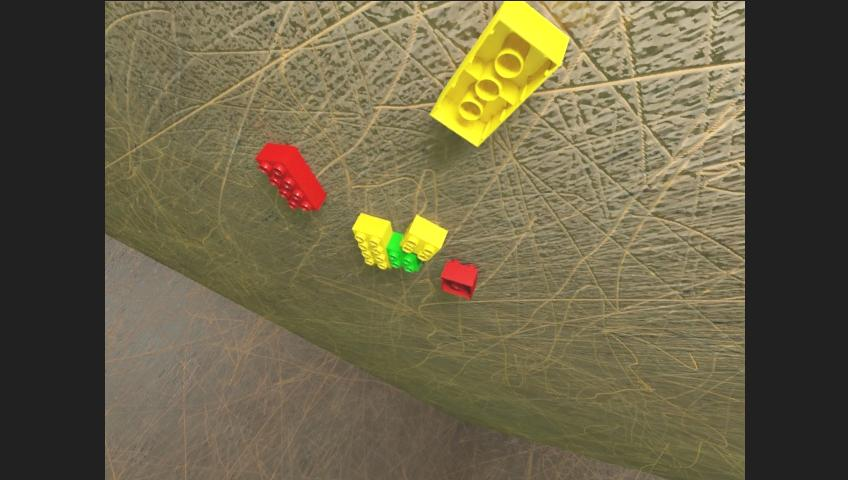2x2_green: (386, 232, 422, 272)
2x2_red: (441, 260, 477, 299)
2x2_yellow: (400, 215, 446, 261)
4x2_red: (255, 143, 327, 212)
4x2_yellow: (430, 0, 568, 147), (353, 213, 393, 269)
